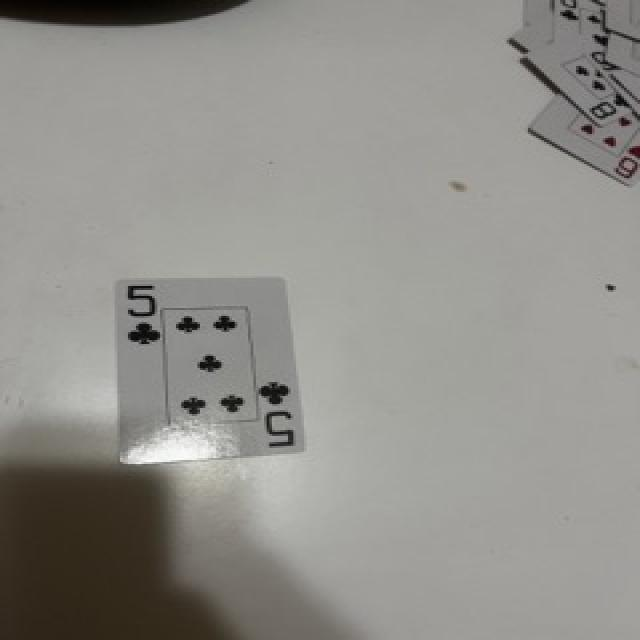5 of clubs: (117, 279, 303, 464)
